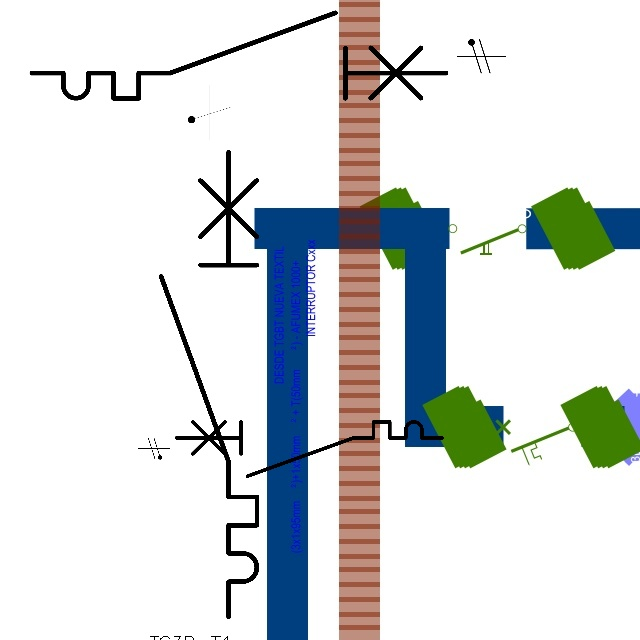interruptor_termomagnetico: (149, 140, 269, 629), (21, 2, 457, 109), (169, 415, 448, 483)
